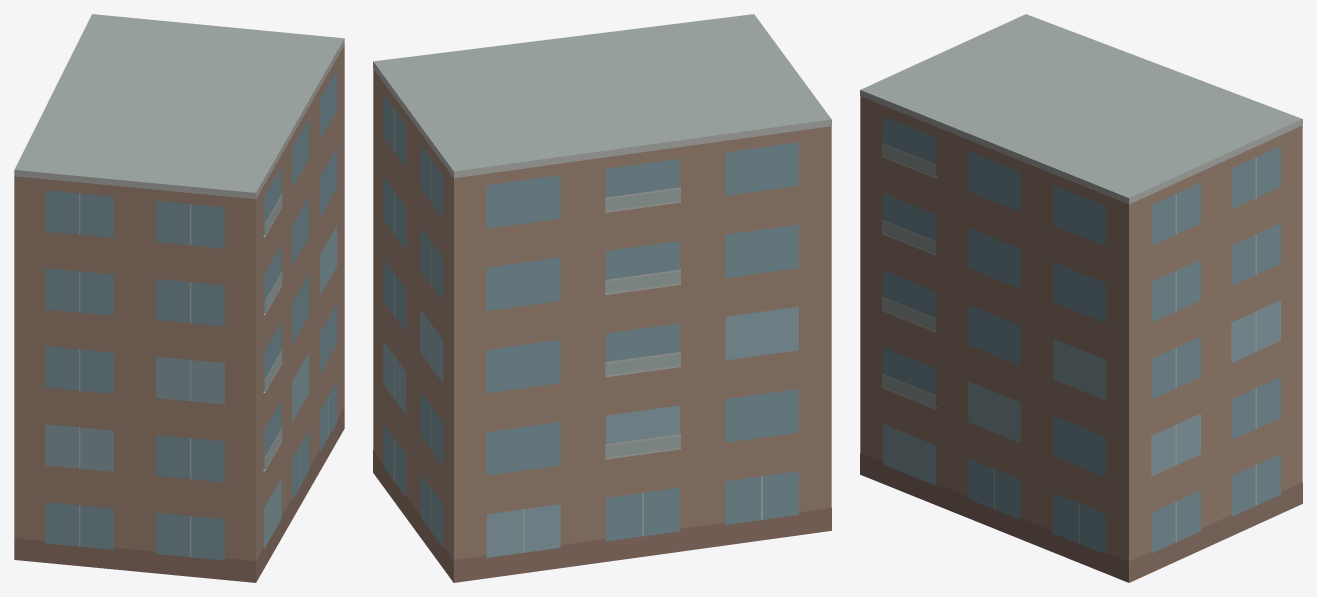
The model's file is survey-upis-32658134.glb.
3 views of the same model, side by side, from view 1: azimuth 30°, elevation 25°; view 2: azimuth 150°, elevation 25°; view 3: azimuth 270°, elevation 25° (orthographic). The views are drawn at different scales.
Visible parts, largest first — view 1: survey-upis-32658134.tmp; view 2: survey-upis-32658134.tmp; view 3: survey-upis-32658134.tmp.
Part boxes in pixels (x1,y1,x2,y2): survey-upis-32658134.tmp: (14,14,344,582); survey-upis-32658134.tmp: (373,14,831,582); survey-upis-32658134.tmp: (860,14,1302,582).
Size of the model in its own units: 15.41 by 15 by 15.65.
